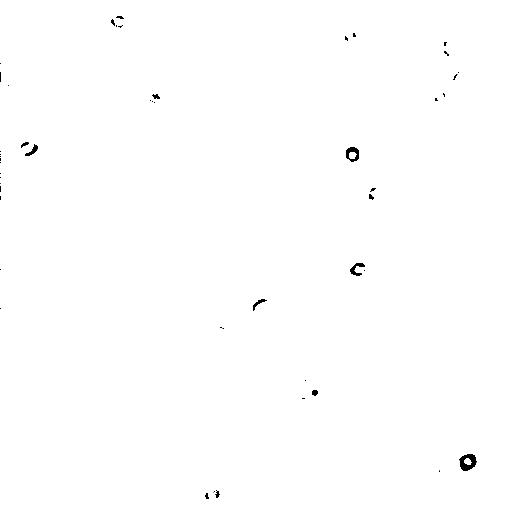micro-algae: (41, 1, 95, 34), (287, 377, 327, 409), (357, 177, 394, 206), (437, 453, 465, 484), (251, 297, 279, 322), (0, 69, 29, 91), (401, 112, 425, 137), (440, 35, 465, 58), (345, 258, 371, 279), (19, 138, 41, 159), (453, 68, 473, 89), (107, 11, 130, 29), (202, 485, 222, 505), (428, 81, 447, 102), (341, 144, 362, 163), (459, 453, 479, 472), (98, 26, 117, 45), (339, 23, 358, 41)
